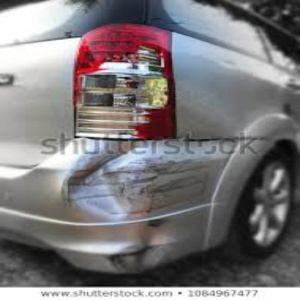bumper: (56, 159, 213, 268)
